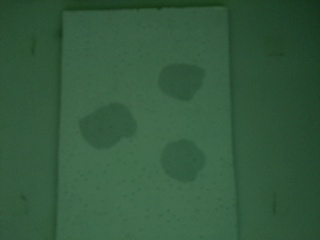Water_detected: (86, 114, 132, 142), (168, 153, 195, 183), (157, 67, 190, 91)
